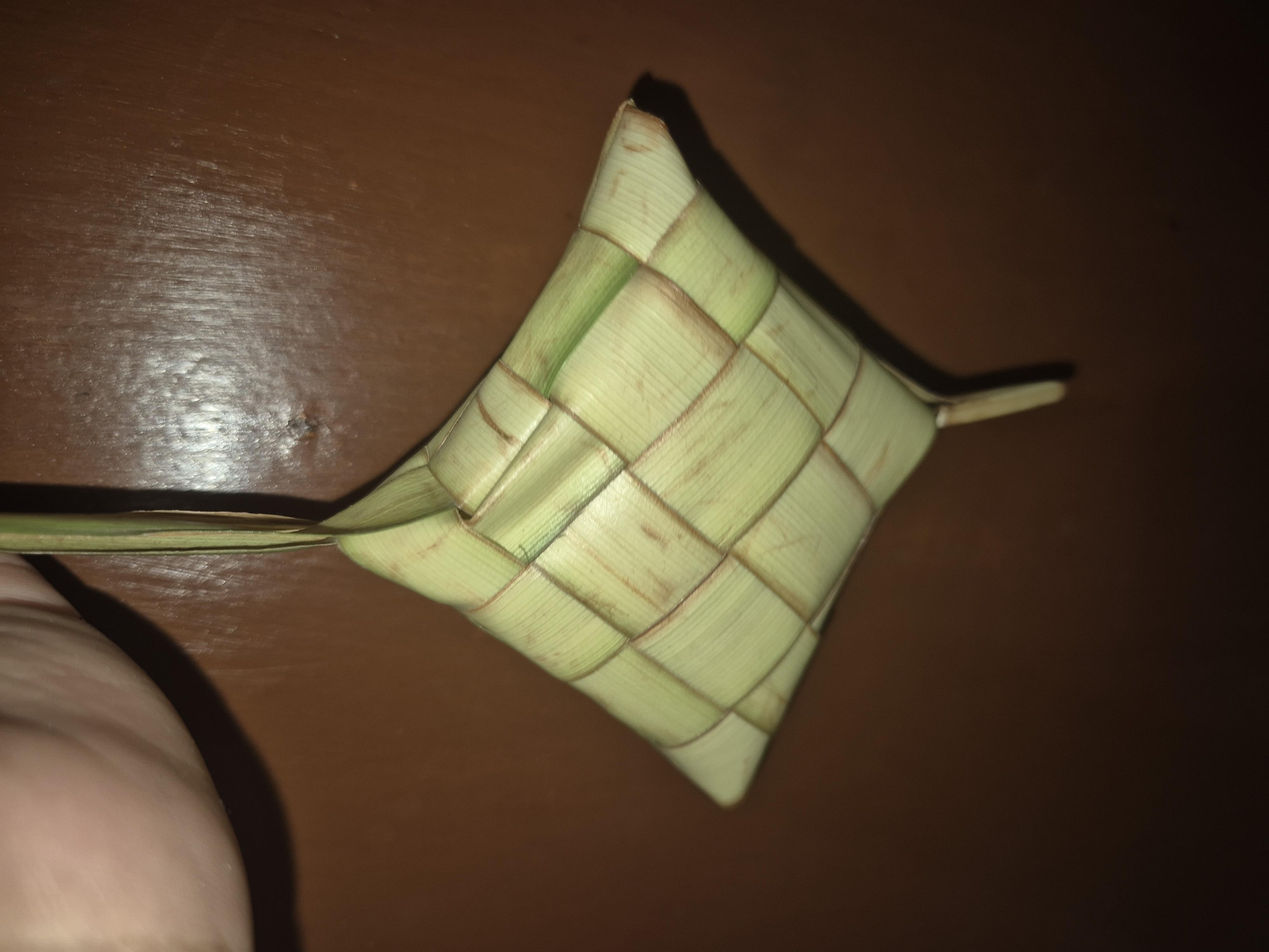Tipat Nasi: (197, 254, 1127, 702)
